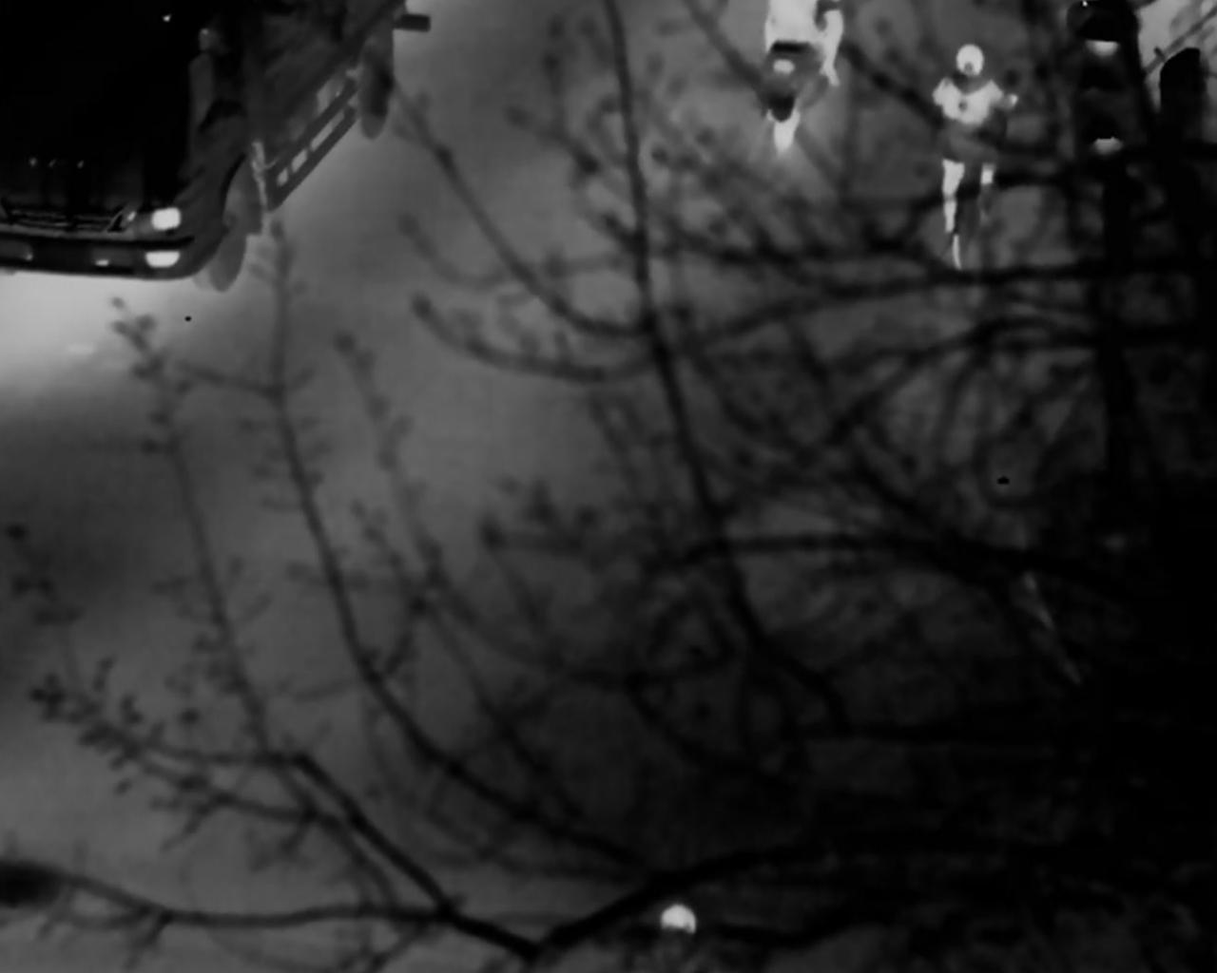person: (938, 38, 1011, 265)
